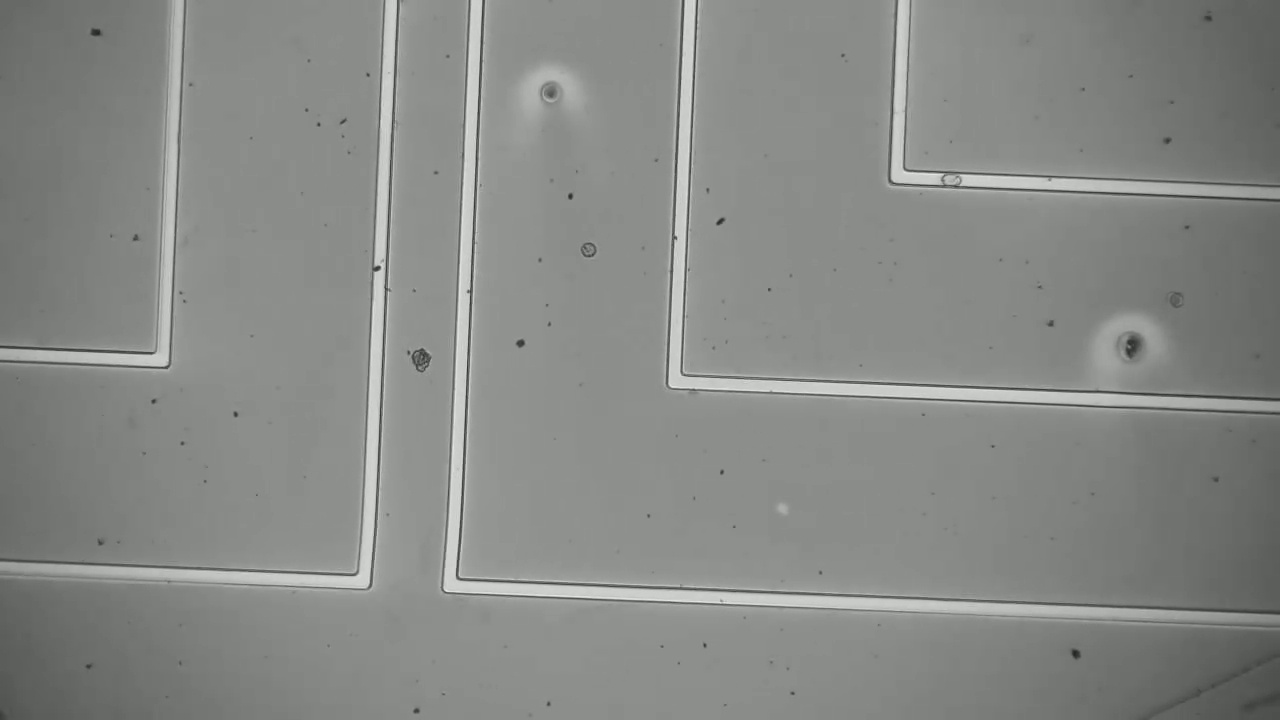scratch: (1143, 651, 1278, 719)
stains_enbedded: (934, 161, 969, 199)
